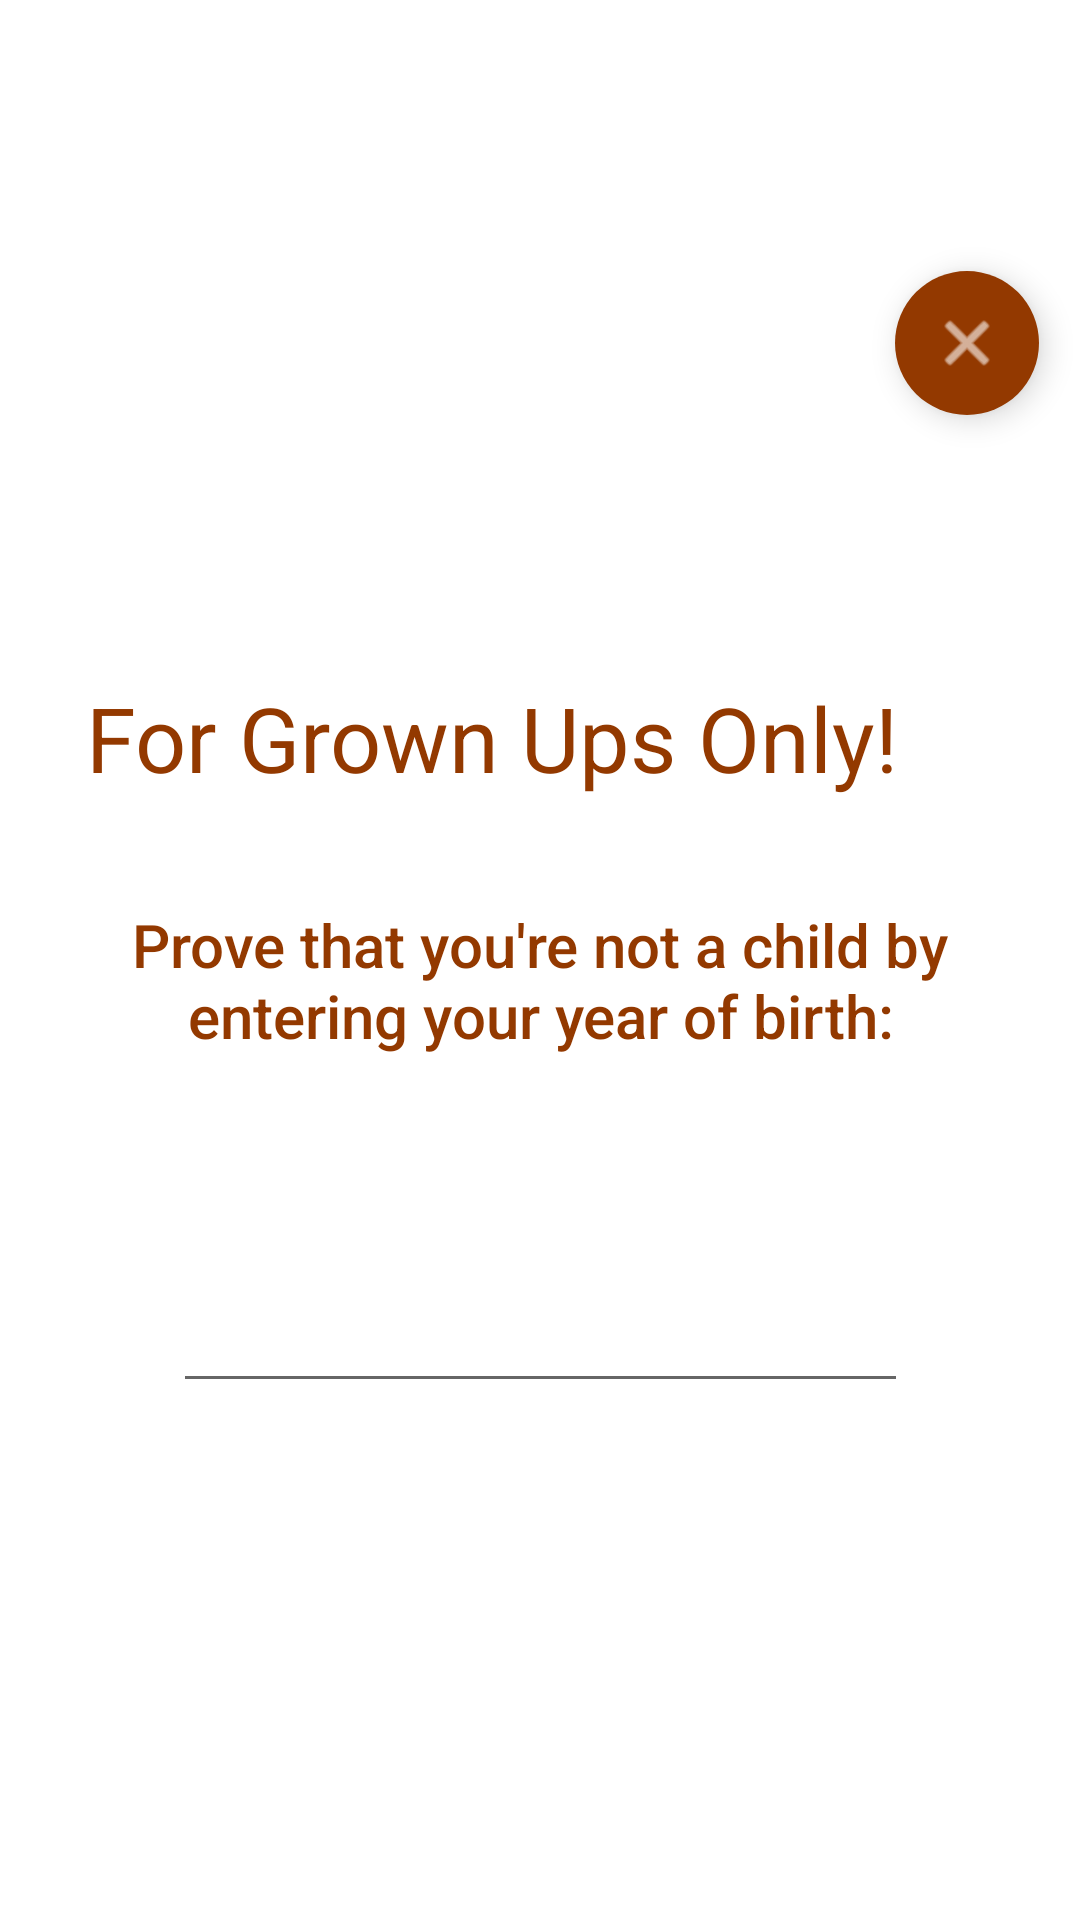

Named icons in this screenshot (1080px x 1920px) and their bounding boxes, (x1, y1, x2, y2):
Closes the settings view being displayed: (895, 271, 1039, 415)
